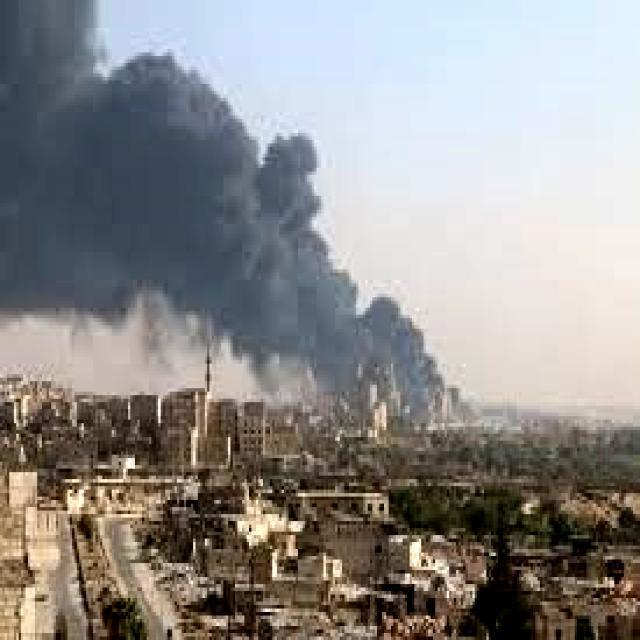Smoke: (0, 44, 433, 408)
